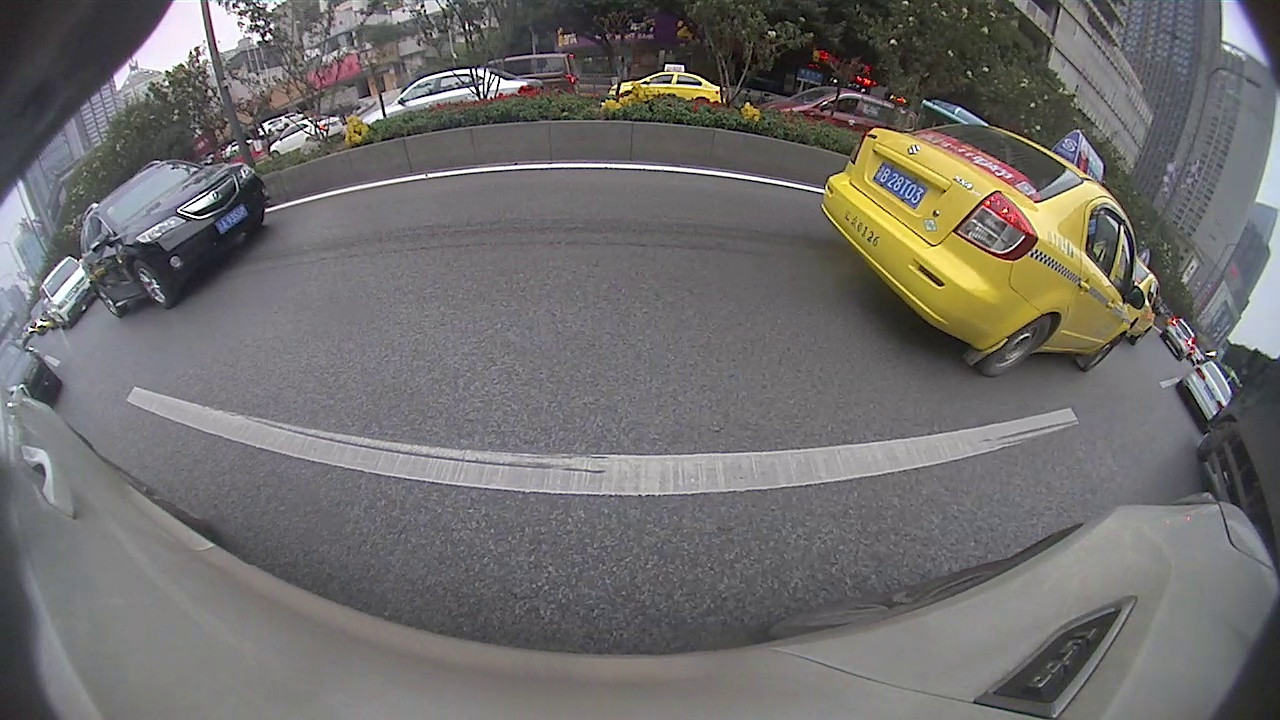car: (824, 121, 1134, 380), (79, 161, 267, 318), (1181, 358, 1236, 435)
front: (133, 259, 172, 309), (1086, 336, 1123, 369)
rear: (981, 316, 1056, 377), (92, 285, 120, 319)
